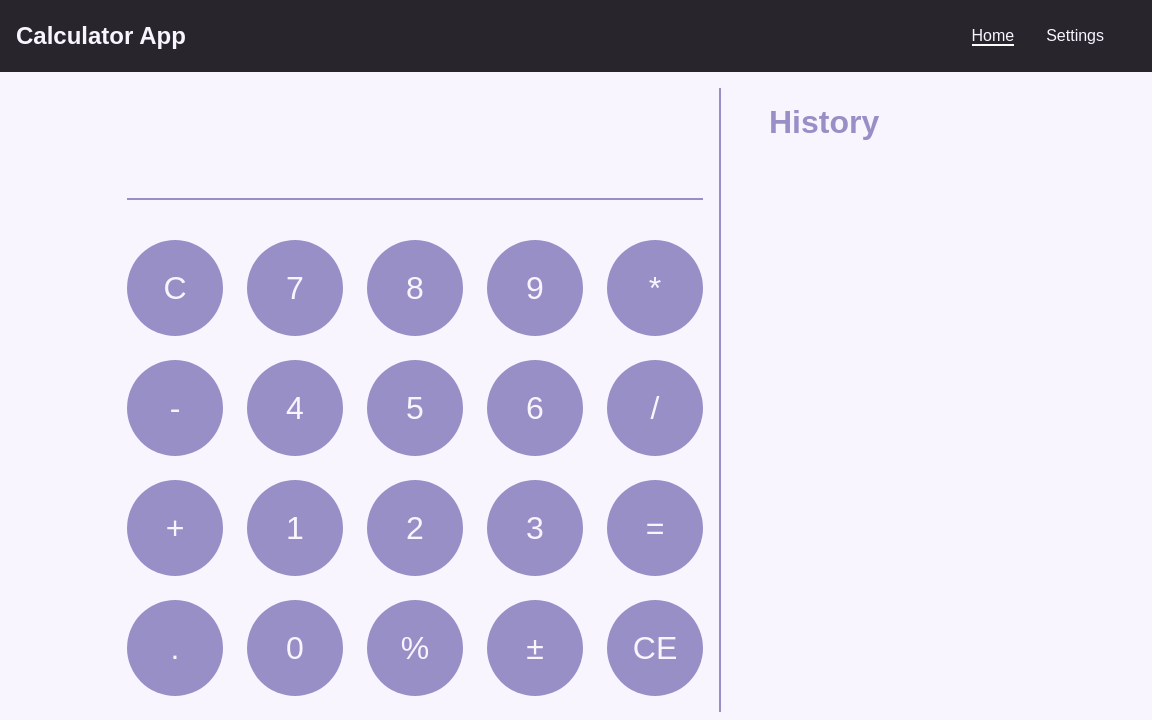
Scenario: operations › add 4 + 2
This screenshot has width=1152, height=720.
Click the button "4". click: click(295, 408)
box: [247, 360, 343, 456]
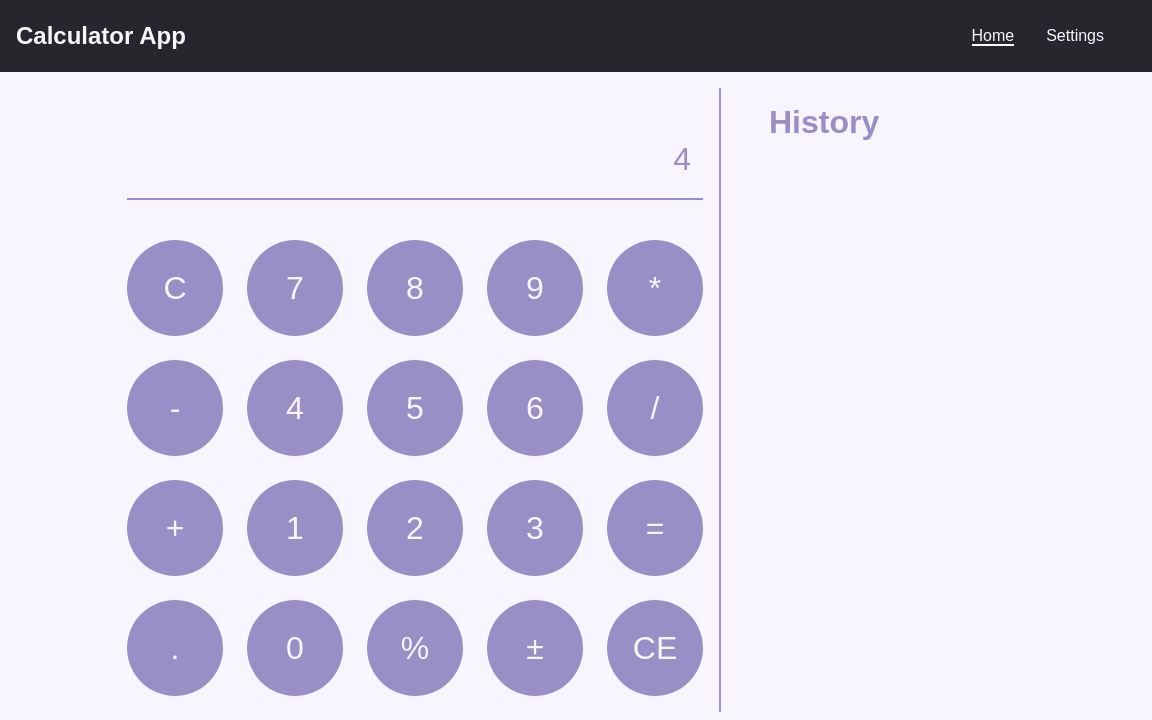
Click the button "+". click: click(175, 528)
box: [127, 480, 223, 576]
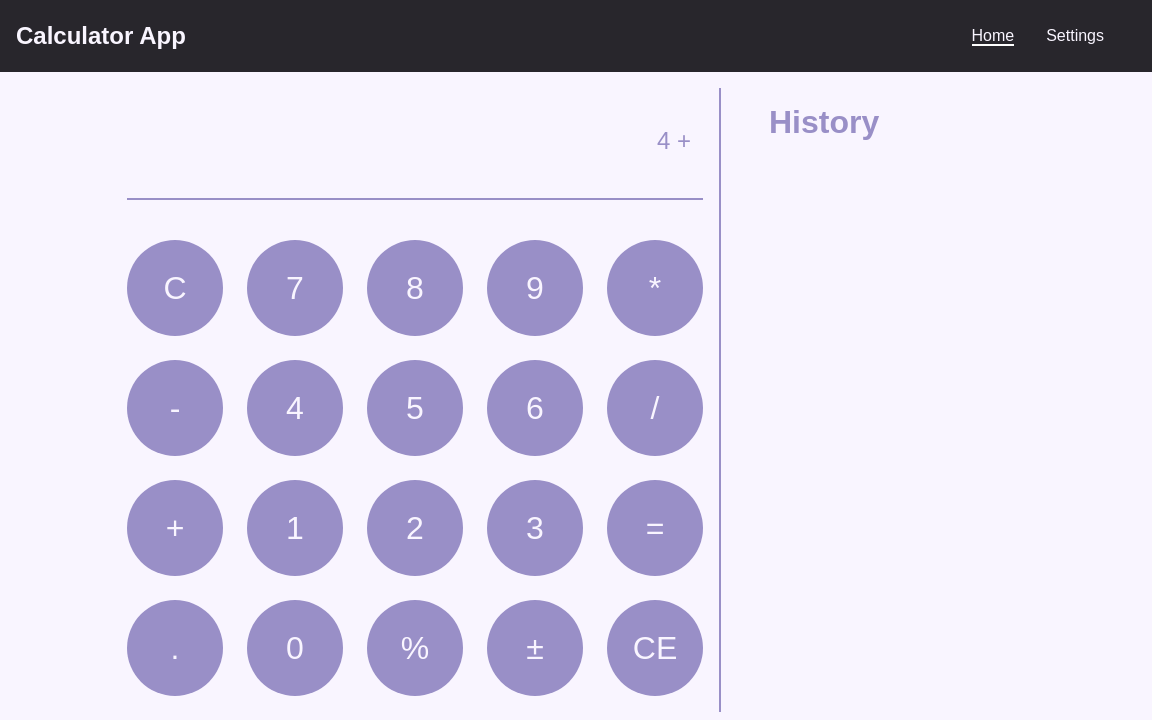
Click the button "2". click: click(415, 528)
box: [367, 480, 463, 576]
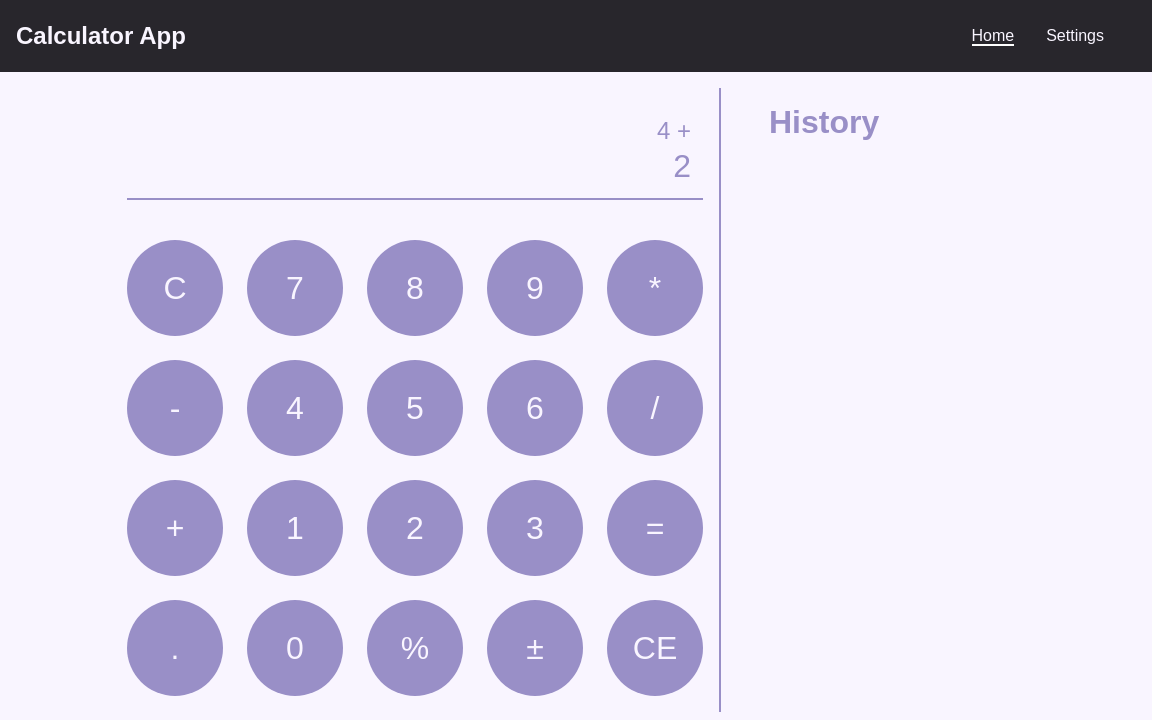
Click the button "=". click: click(655, 528)
box: [607, 480, 703, 576]
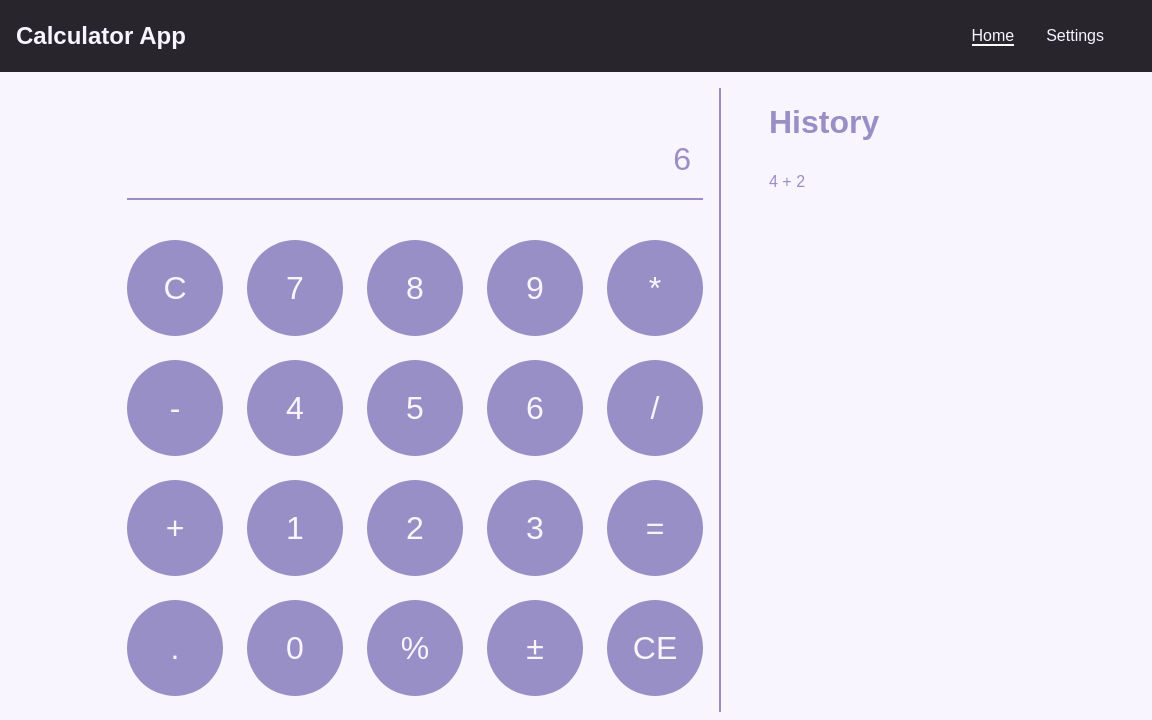
Check: the text "6" is shown, box [673, 141, 691, 178]
